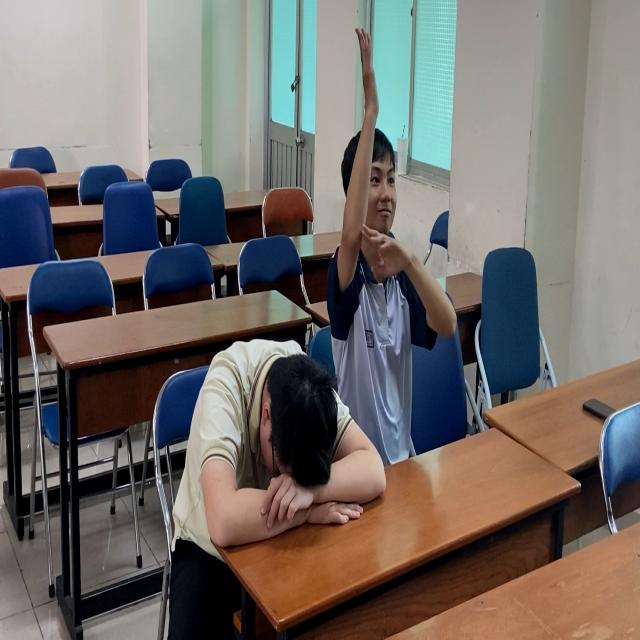raise_hand: (332, 14, 460, 484)
sleep: (174, 332, 387, 545)
